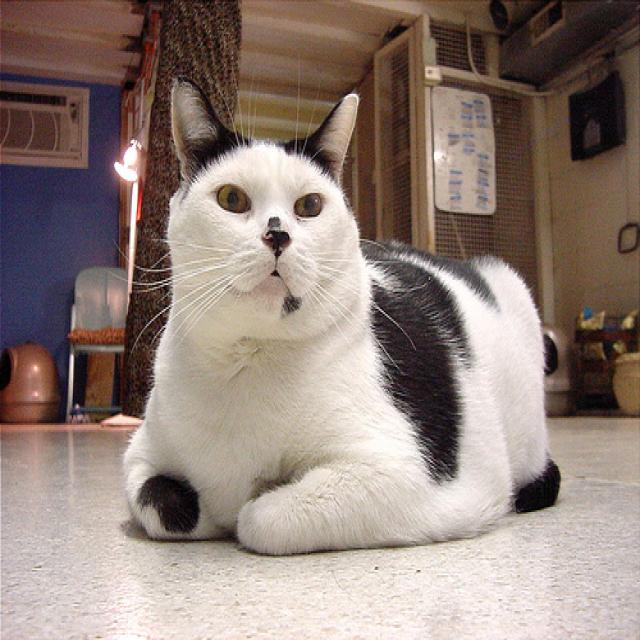cat: (121, 75, 562, 558)
